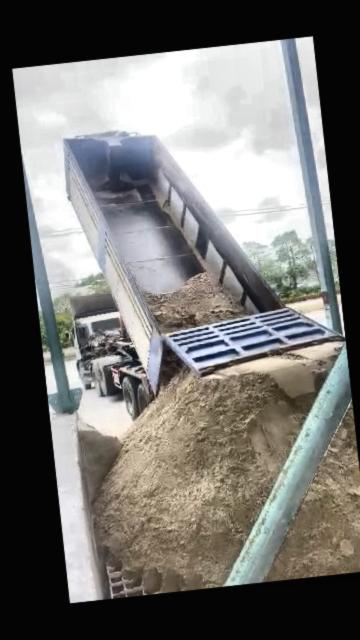sand: (93, 369, 314, 592), (270, 409, 360, 580), (147, 274, 245, 332), (250, 346, 322, 398), (80, 422, 120, 495), (159, 345, 183, 386)
